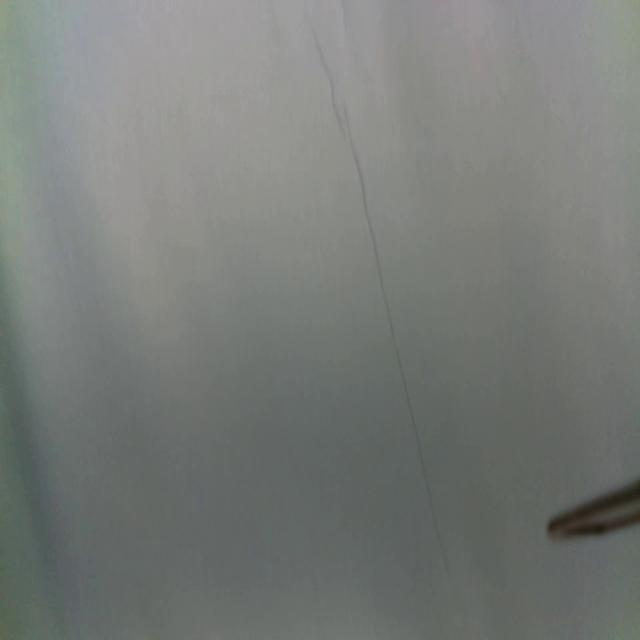crease: (304, 4, 448, 574)
